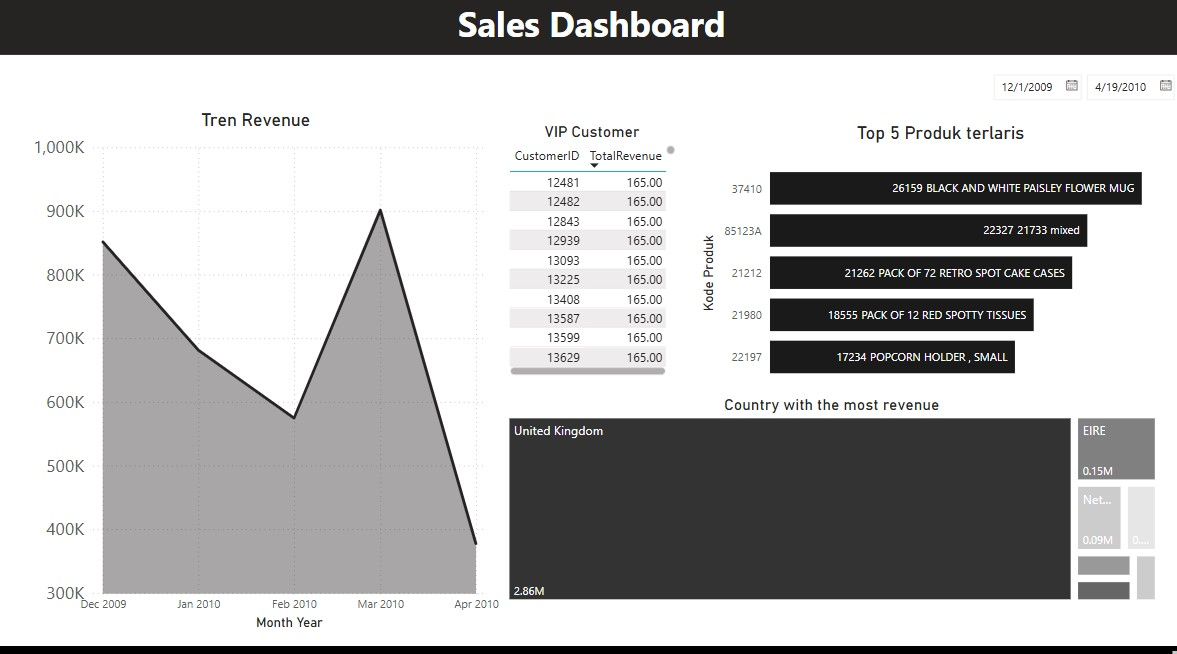

This screenshot's page, from the dashboard's own definition file:
{"tool":"powerbi","page":{"name":"Page 1","canvas":[1280,720],"ordinal":0},"visuals":[{"type":"textbox","box":[0,0,1279.2,64.8],"z":0},{"type":"areaChart","title":"Tren Revenue","fields":{"Category":["public salesretail.InvoiceDate (bins)"],"Y":["Sum(public salesretail.TotalRevenue)"]},"box":[9.4,122.8,534.8,566.9],"z":1},{"type":"barChart","title":"Top 5 Produk terlaris","fields":{"Category":["public salesretail.StockCode"],"Y":["Sum(public salesretail.Quantity)"]},"box":[752.1,138,527.2,294.8],"z":2},{"type":"tableEx","title":"VIP Customer","fields":{"Values":["public salesretail.CustomerID","public salesretail.TotalRevenue"]},"box":[546.1,138,189,277.8],"z":3},{"type":"treemap","title":"Country with the most revenue","fields":{"Group":["public salesretail.Country"],"Values":["Sum(public salesretail.TotalRevenue)"]},"box":[546.1,432.8,706.8,224.9],"z":4},{"type":"textbox","box":[0,703,1279.4,17],"z":5},{"type":"slicer","fields":{"Values":["public salesretail.InvoiceDate"]},"box":[1060.2,75.6,219.2,47.2],"z":6}]}

Visuals, with their boxes in screenshot pixels (x1, y1, x2, y2), scaled from the page's 1280x720 canvas onto the 1177x654 screenshot:
textbox: region(0, 0, 1176, 59)
"Tren Revenue" areaChart: region(9, 112, 500, 626)
"Top 5 Produk terlaris" barChart: region(692, 125, 1176, 393)
"VIP Customer" tableEx: region(502, 125, 676, 378)
"Country with the most revenue" treemap: region(502, 393, 1152, 597)
textbox: region(0, 639, 1176, 653)
slicer - public salesretail.InvoiceDate: region(975, 69, 1176, 112)
